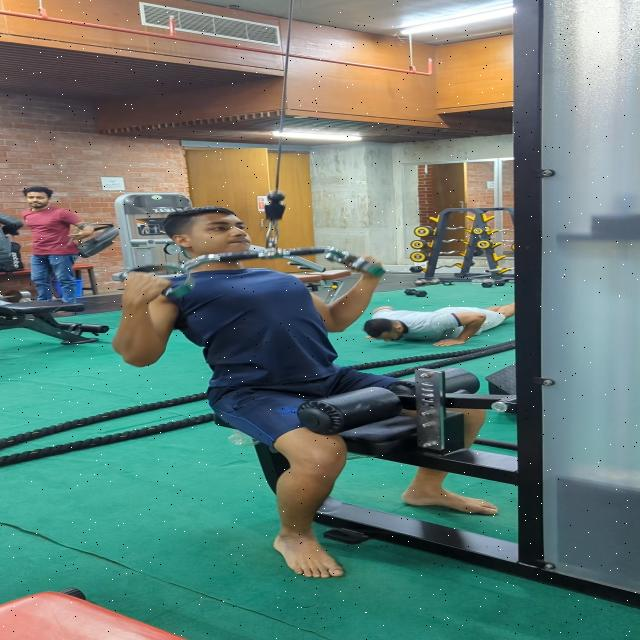Normal_LatPulldown: (92, 188, 510, 590)
